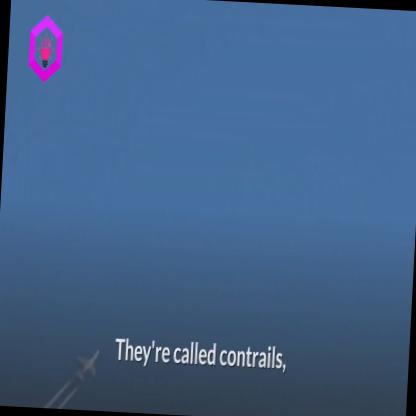plane: (72, 344, 110, 388)
